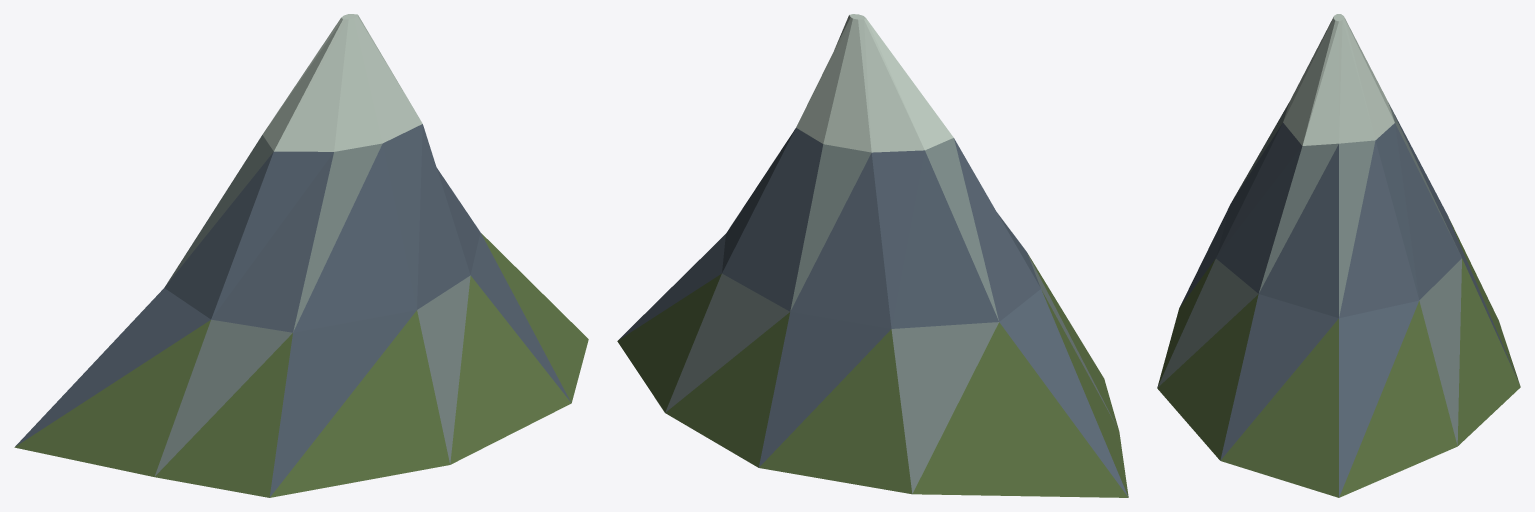
Rendered from sacred_peak.glb.
3 views of the same model, side by side, from view 1: azimuth 30°, elevation 25°; view 2: azimuth 150°, elevation 25°; view 3: azimuth 270°, elevation 25° (orthographic). The views are drawn at different scales.
Parts seen in each view (by area): view 1: sacred_peak; view 2: sacred_peak; view 3: sacred_peak.
Boxes of the visible parts, x1=… form: sacred_peak: x1=14, y1=14, x2=588, y2=497; sacred_peak: x1=617, y1=14, x2=1128, y2=497; sacred_peak: x1=1157, y1=14, x2=1520, y2=497.
Size of the model in its own units: 29.77 by 20 by 17.92.
